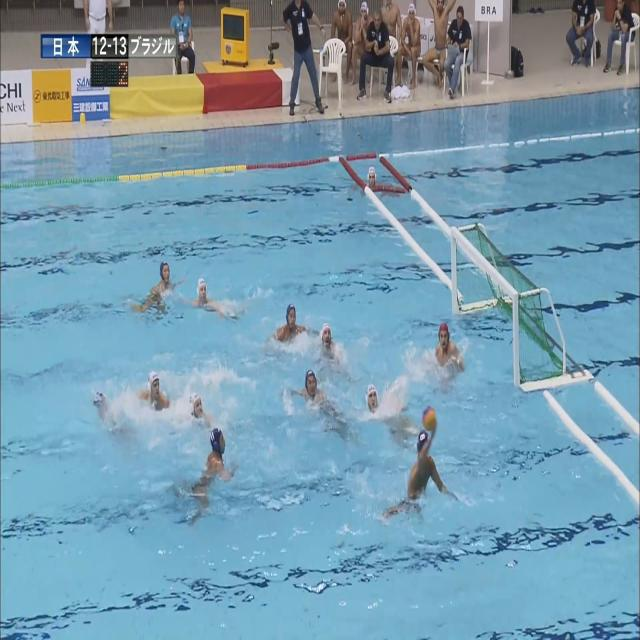ball: (423, 406, 435, 431)
